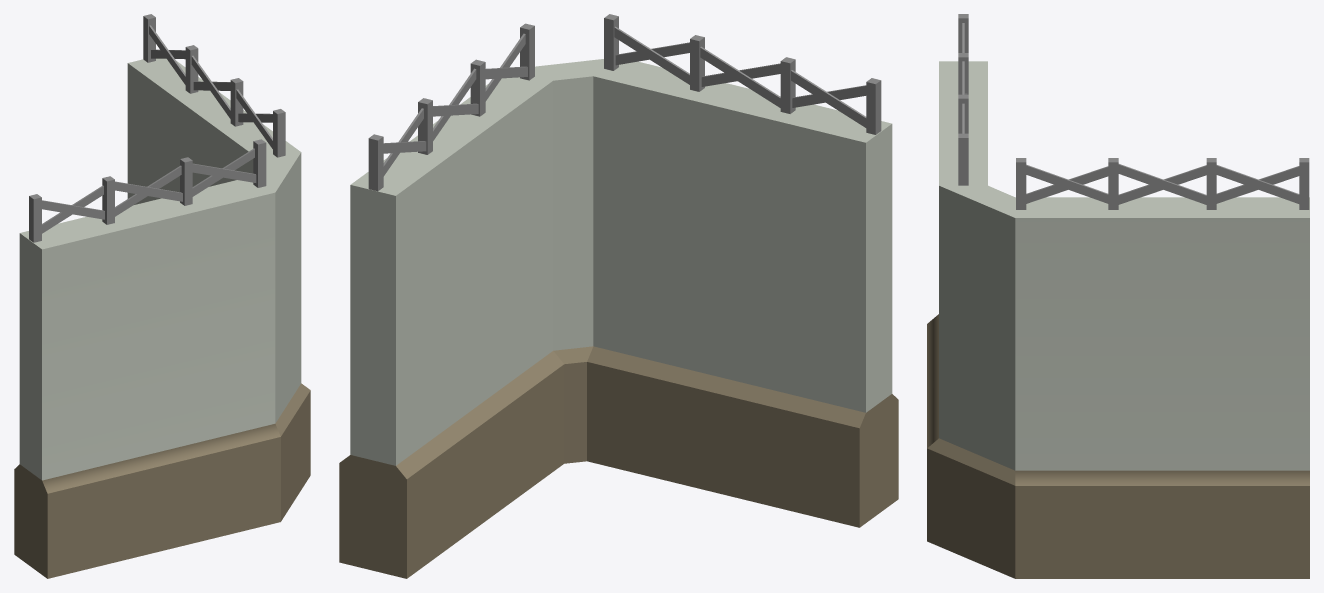
File: SM_wall_perimeter_angular_A.fbx
3 renders of one model, left to right at view 1: azimuth 30°, elevation 25°; view 2: azimuth 150°, elevation 25°; view 3: azimuth 270°, elevation 25°, orthographic. The views are drawn at different scales.
Parts seen in each view (by area): view 1: pCube79; view 2: pCube79; view 3: pCube79.
Boxes of the visible parts, x1,y1,x2,y2 form: pCube79: (14, 14, 310, 578); pCube79: (339, 14, 898, 578); pCube79: (927, 14, 1309, 578).
Size of the model in its own units: 390 by 453 by 390.
